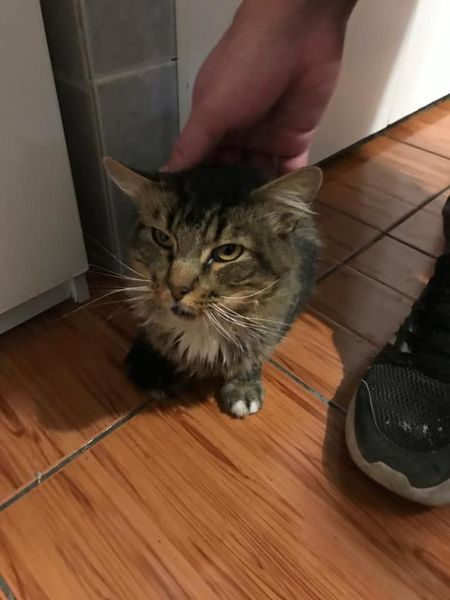cat: (88, 143, 338, 428)
